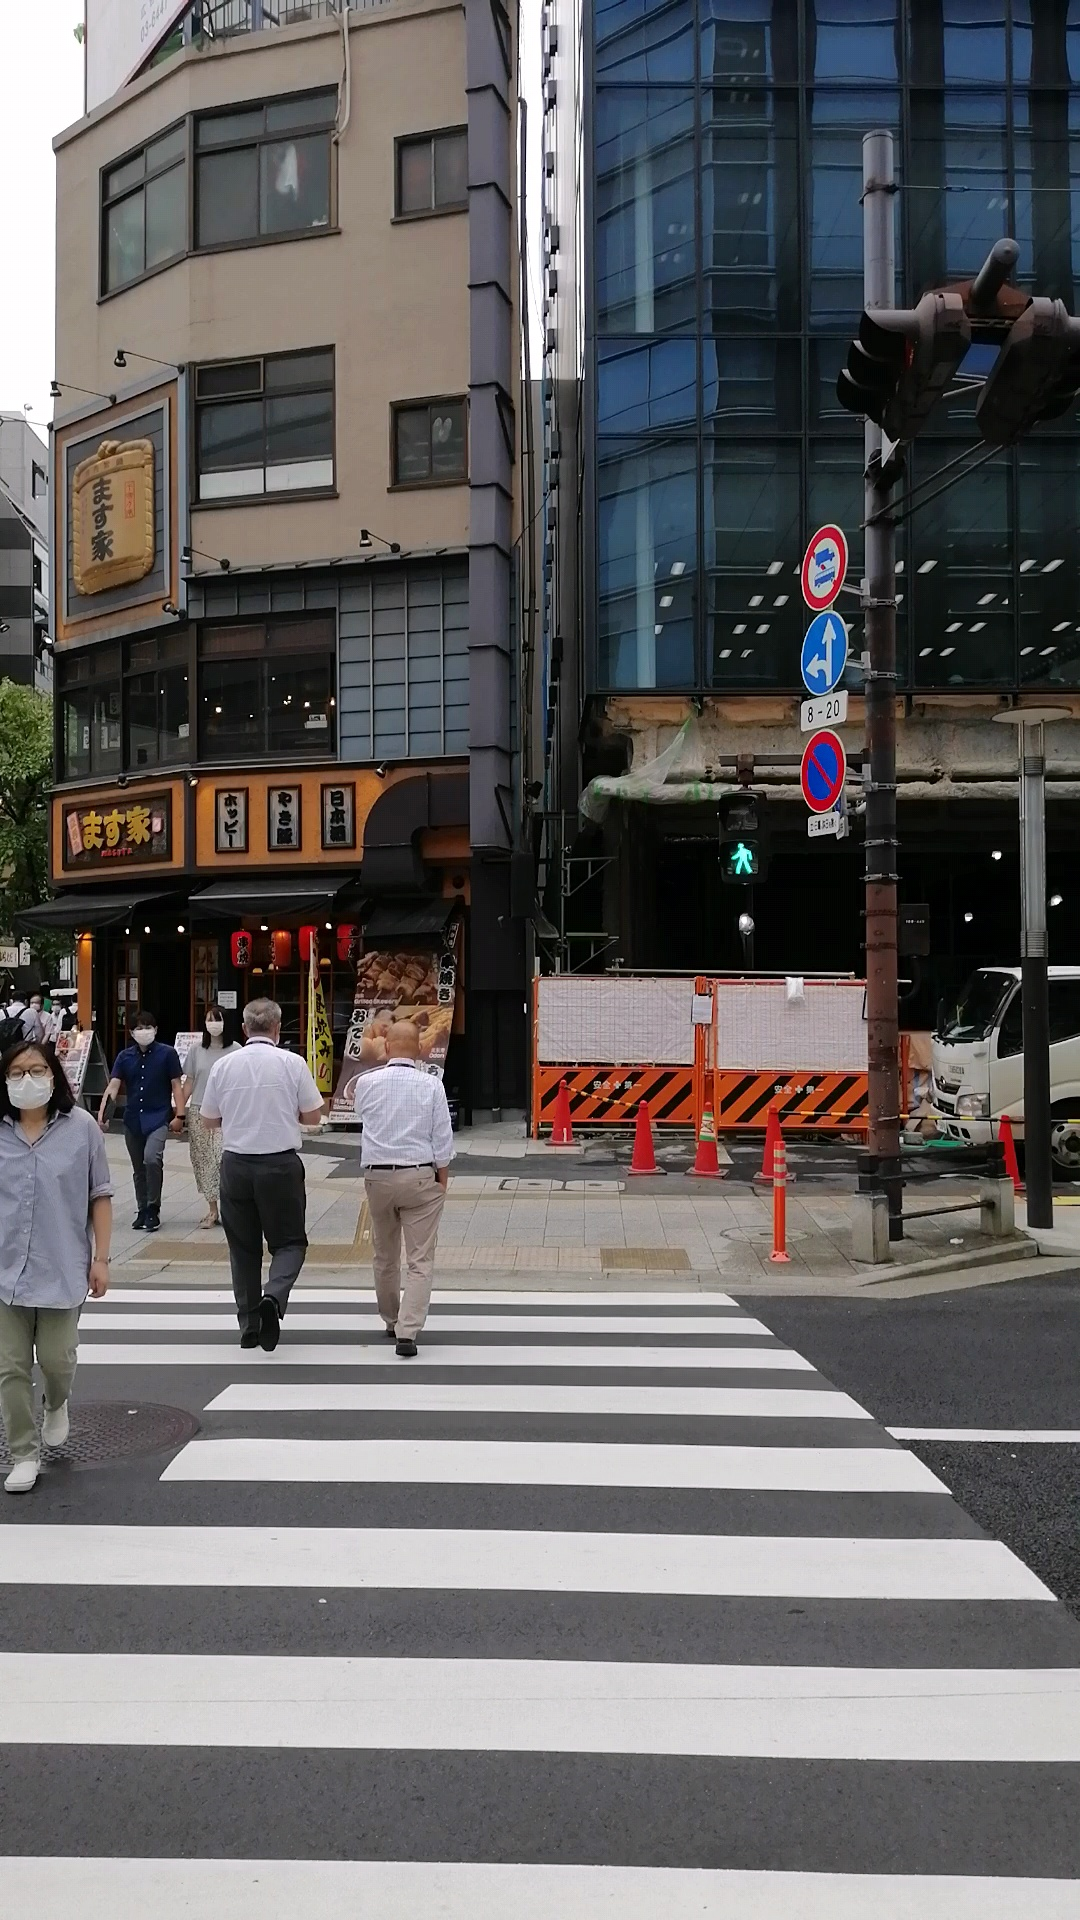green: (717, 790, 767, 887)
